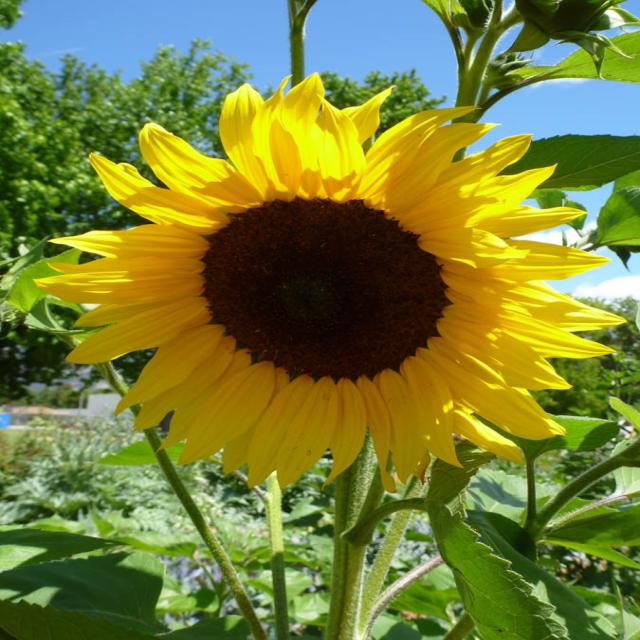sunflower: (32, 66, 611, 499)
